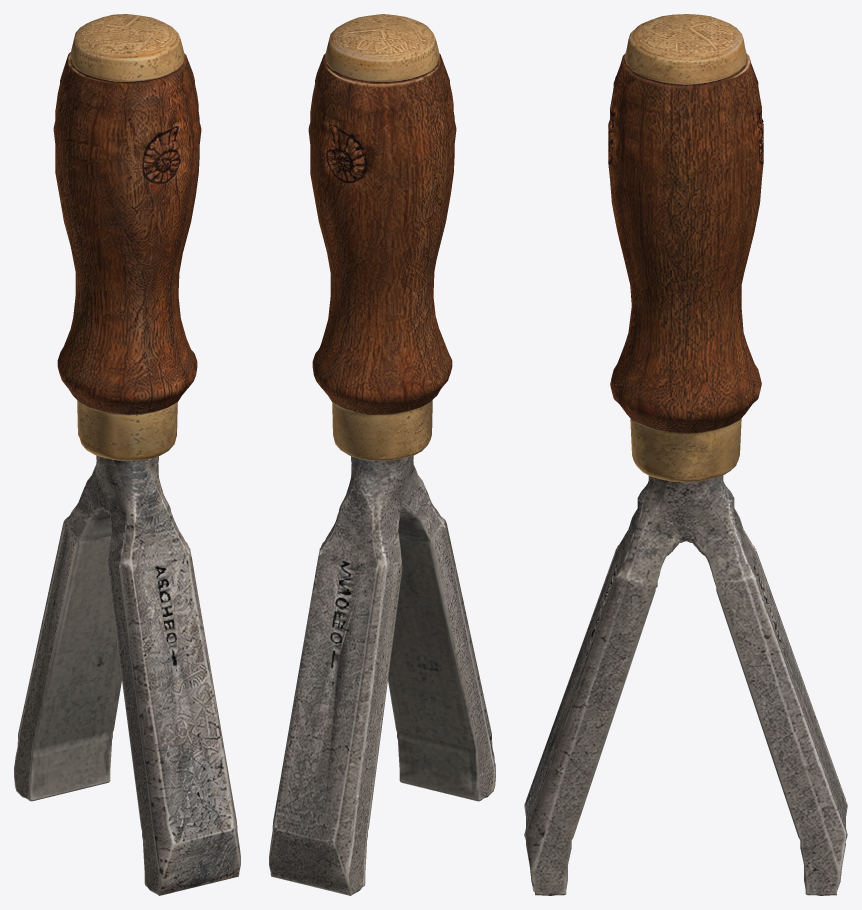
The model's file is chisel_low.glb.
The picture shows the model from 3 angles, left to right: view 1: azimuth 30°, elevation 25°; view 2: azimuth 150°, elevation 25°; view 3: azimuth 270°, elevation 25°; orthographic projection. The views are drawn at different scales.
Visible parts, largest first — view 1: tripo_node_0d6c40c8-b4ae-4648-bdf4-b6fd171dbb82; view 2: tripo_node_0d6c40c8-b4ae-4648-bdf4-b6fd171dbb82; view 3: tripo_node_0d6c40c8-b4ae-4648-bdf4-b6fd171dbb82.
Part boxes in pixels (bbox=[...]): tripo_node_0d6c40c8-b4ae-4648-bdf4-b6fd171dbb82: bbox=[14, 14, 240, 895]; tripo_node_0d6c40c8-b4ae-4648-bdf4-b6fd171dbb82: bbox=[269, 14, 495, 895]; tripo_node_0d6c40c8-b4ae-4648-bdf4-b6fd171dbb82: bbox=[524, 14, 847, 895].
Size of the model in its own units: 0.159 by 0.979 by 0.3391.
Materials: 1 (1 with a texture image).
